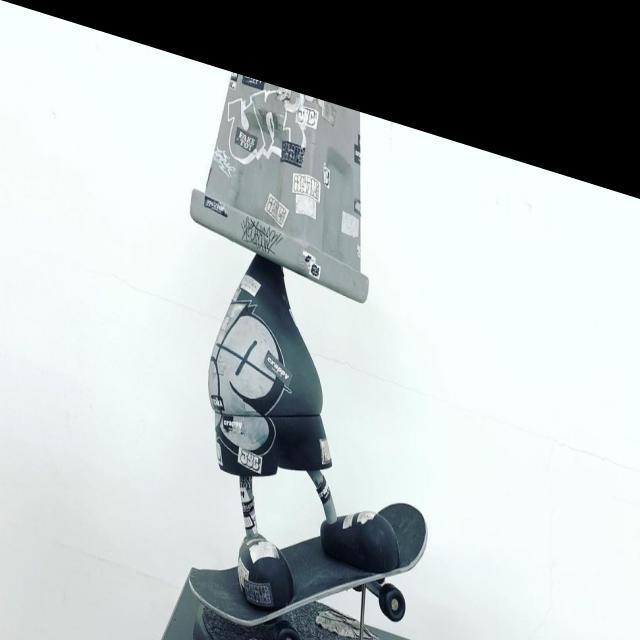-: (190, 272, 286, 464), (228, 57, 314, 165), (235, 178, 286, 252), (210, 126, 236, 166)
